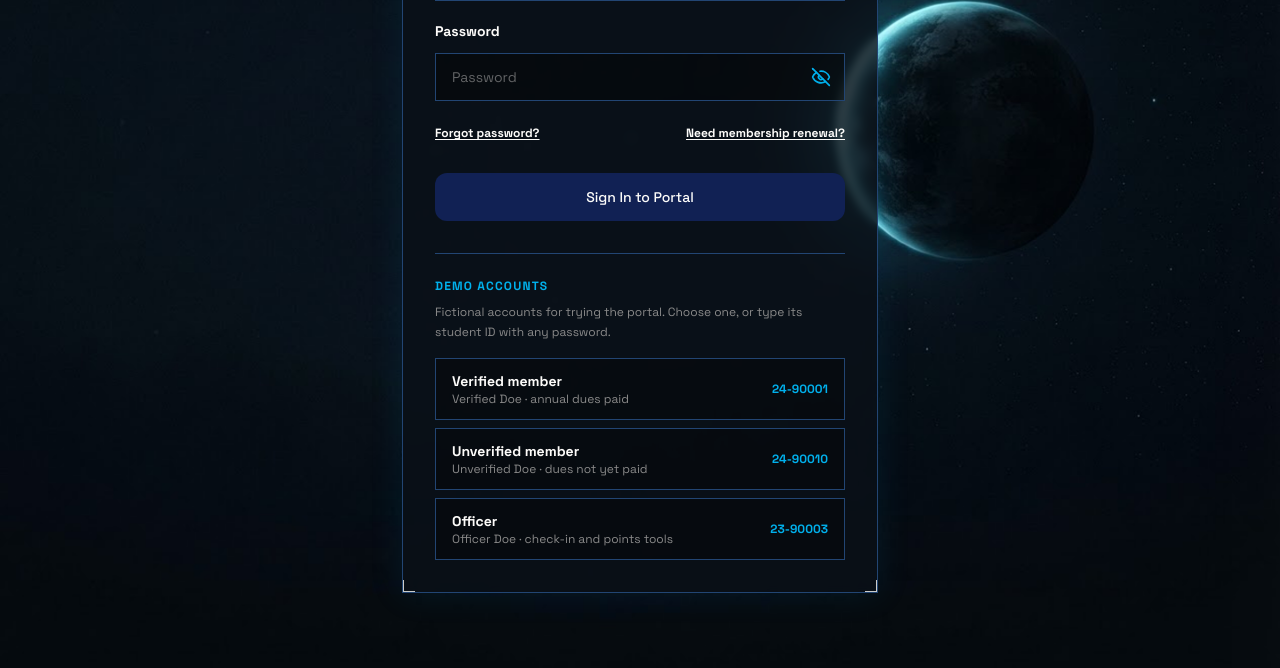
Test case: perks marketplace › explains why a perk cannot be claimed
The image size is (1280, 668).
(page scrolled)
Click the button "Verified member Verified Doe · annual dues paid 24-90001" at x=507, y=381, box x1=435 y1=358 x2=845 y2=420
(page scrolled)
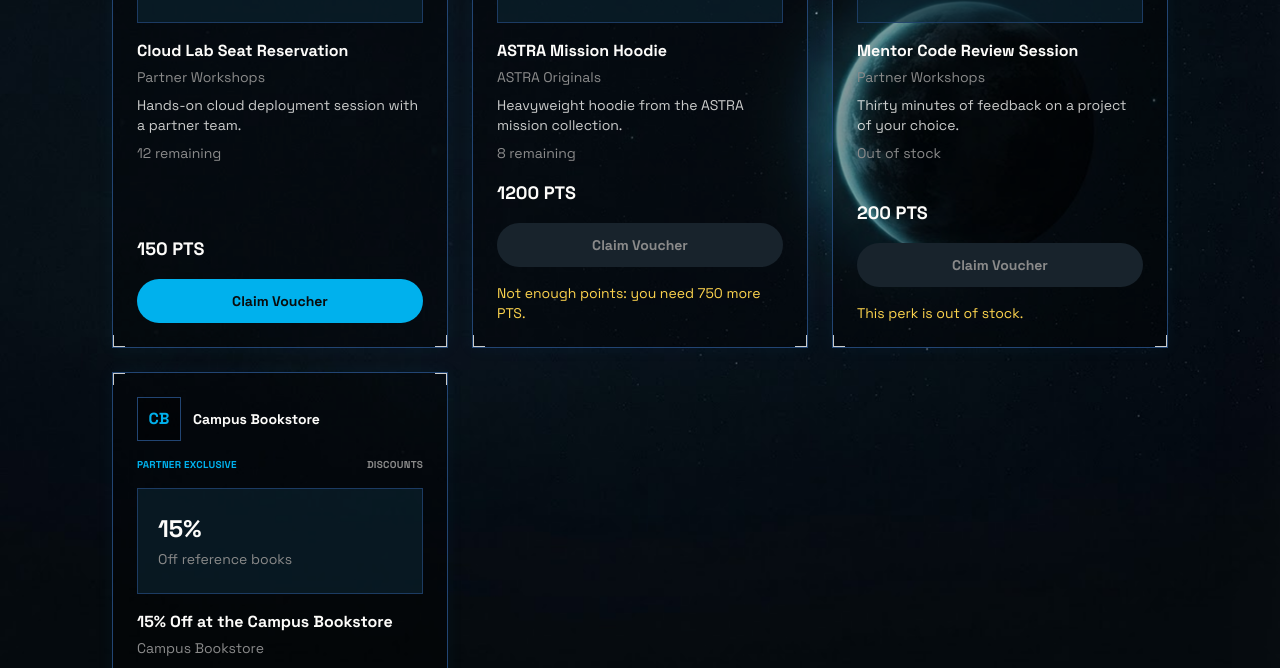
Expected: the button with aria-label "Claim ASTRA Mission Hoodie" is disabled, x1=497 y1=223 x2=783 y2=267
Expected: the text "Not enough points: you need 750 more PTS." is shown, x1=497 y1=283 x2=783 y2=323
Expected: the text "This perk is out of stock." is shown, x1=857 y1=304 x2=1023 y2=322
